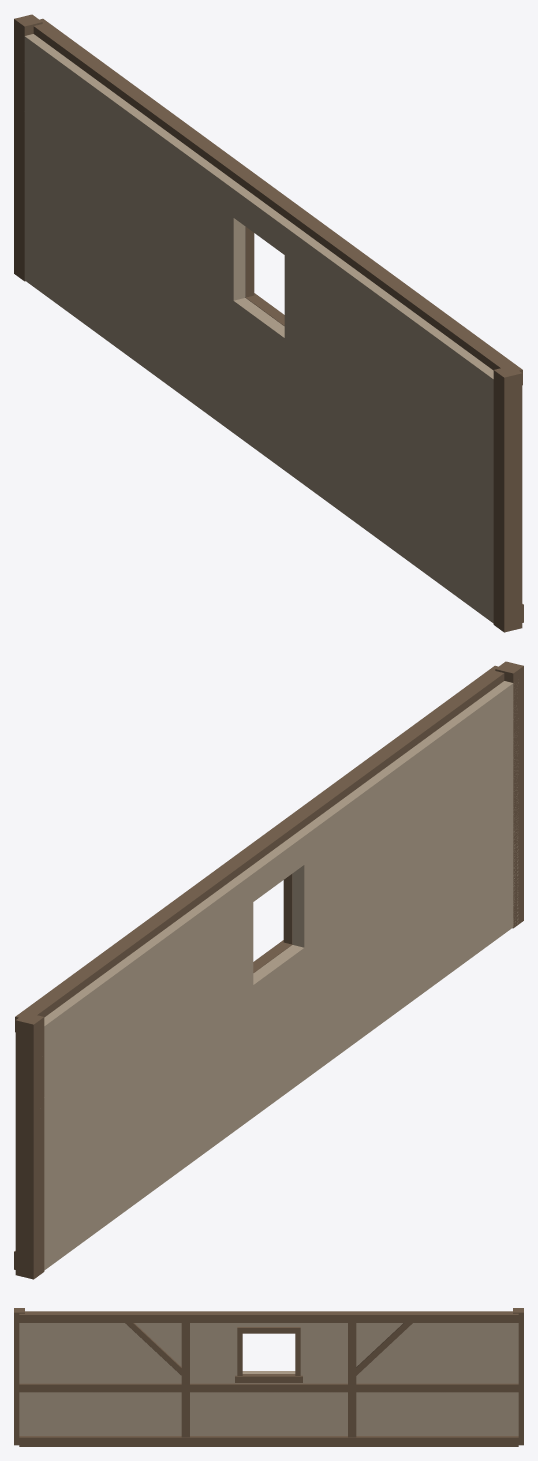
Rendered from beam_B.glb.
The picture shows the model from 3 angles, top to bottom: view 1: azimuth 30°, elevation 25°; view 2: azimuth 150°, elevation 25°; view 3: azimuth 270°, elevation 25°; orthographic projection. The views are drawn at different scales.
Visible parts, largest first — view 1: MOD01_Bay_3_Infill, MOD01_Bay_1_Infill, MOD01_Bay_2_Infill, 08A_SideWallPlate.006, 08A_CornerPost.012, 08A_CornerPost.013; view 2: MOD01_Bay_1_Infill, MOD01_Bay_3_Infill, MOD01_Bay_2_Infill, 08A_SideWallPlate.006, 08A_CornerPost.013, 08A_CornerPost.012; view 3: MOD01_Bay_1_Infill, MOD01_Bay_3_Infill, MOD01_Bay_2_Infill, 08A_SideWallPlate.006, ART01_SideSill, ART01_MidRail, ART01_IntermediatePost_1, ART01_IntermediatePost_2, 08A_CornerPost.012, 08A_CornerPost.013, MOD01_Bay_2_sill, ART01_KneeBrace_2 (+4 smaller).
Part boxes in pixels (x1,y1,x2,y2): MOD01_Bay_3_Infill: [24, 34, 187, 392]; MOD01_Bay_1_Infill: [339, 264, 493, 623]; MOD01_Bay_2_Infill: [179, 147, 347, 509]; 08A_SideWallPlate.006: [33, 18, 522, 385]; 08A_CornerPost.012: [493, 365, 522, 632]; 08A_CornerPost.013: [14, 14, 42, 281]; MOD01_Bay_1_Infill: [350, 681, 518, 1039]; MOD01_Bay_3_Infill: [44, 911, 198, 1270]; MOD01_Bay_2_Infill: [190, 794, 358, 1156]; 08A_SideWallPlate.006: [15, 665, 504, 1032]; 08A_CornerPost.013: [15, 1012, 44, 1279]; 08A_CornerPost.012: [495, 661, 523, 928]; MOD01_Bay_1_Infill: [19, 1323, 181, 1435]; MOD01_Bay_3_Infill: [356, 1323, 518, 1435]; MOD01_Bay_2_Infill: [190, 1323, 347, 1435]; 08A_SideWallPlate.006: [19, 1311, 518, 1322]; ART01_SideSill: [19, 1436, 518, 1446]; ART01_MidRail: [19, 1383, 518, 1392]; ART01_IntermediatePost_1: [181, 1323, 189, 1437]; ART01_IntermediatePost_2: [348, 1323, 356, 1437]; 08A_CornerPost.012: [14, 1308, 24, 1445]; 08A_CornerPost.013: [513, 1308, 523, 1445]; MOD01_Bay_2_sill: [235, 1374, 302, 1382]; ART01_KneeBrace_2: [356, 1323, 412, 1375].
Bounding box in the file's own units: 0.22 × 2.14 × 7.46.
